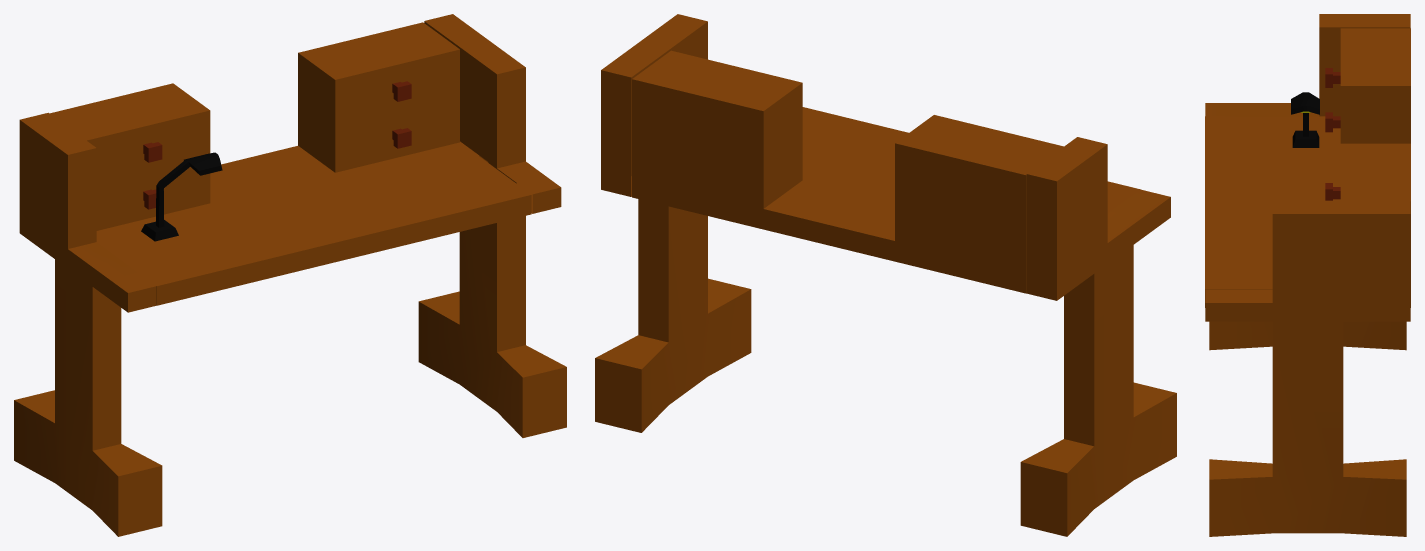
The model's file is MesaDeEscritorio2.fbx.
The picture shows the model from 3 angles, left to right: view 1: azimuth 30°, elevation 25°; view 2: azimuth 150°, elevation 25°; view 3: azimuth 270°, elevation 25°; orthographic projection. The views are drawn at different scales.
Visible parts, largest first — view 1: MesaDeEscritorio2; view 2: MesaDeEscritorio2; view 3: MesaDeEscritorio2.
Part boxes in pixels (x1,y1,x2,y2): MesaDeEscritorio2: [14, 14, 566, 536]; MesaDeEscritorio2: [595, 14, 1176, 536]; MesaDeEscritorio2: [1205, 14, 1410, 536].
Bounding box in the file's own units: 385 × 277 × 162.
